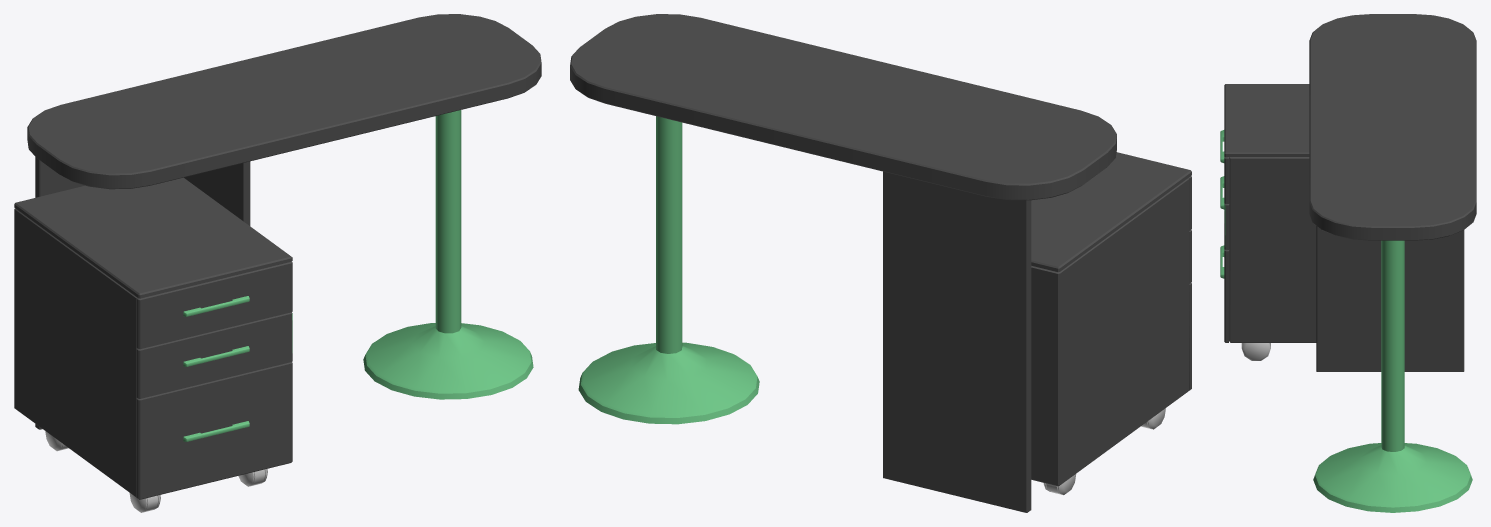
Rendered from JJZY125.FBX.
3 renders of one model, left to right at view 1: azimuth 30°, elevation 25°; view 2: azimuth 150°, elevation 25°; view 3: azimuth 270°, elevation 25°, orthographic. The views are drawn at different scales.
Parts seen in each view (by area): view 1: JJZY125; view 2: JJZY125; view 3: JJZY125.
Boxes of the visible parts, x1,y1,x2,y2 form: JJZY125: [14, 14, 541, 512]; JJZY125: [570, 14, 1191, 512]; JJZY125: [1220, 14, 1476, 512].
Size of the model in its own units: 120 by 60.92 by 75.
